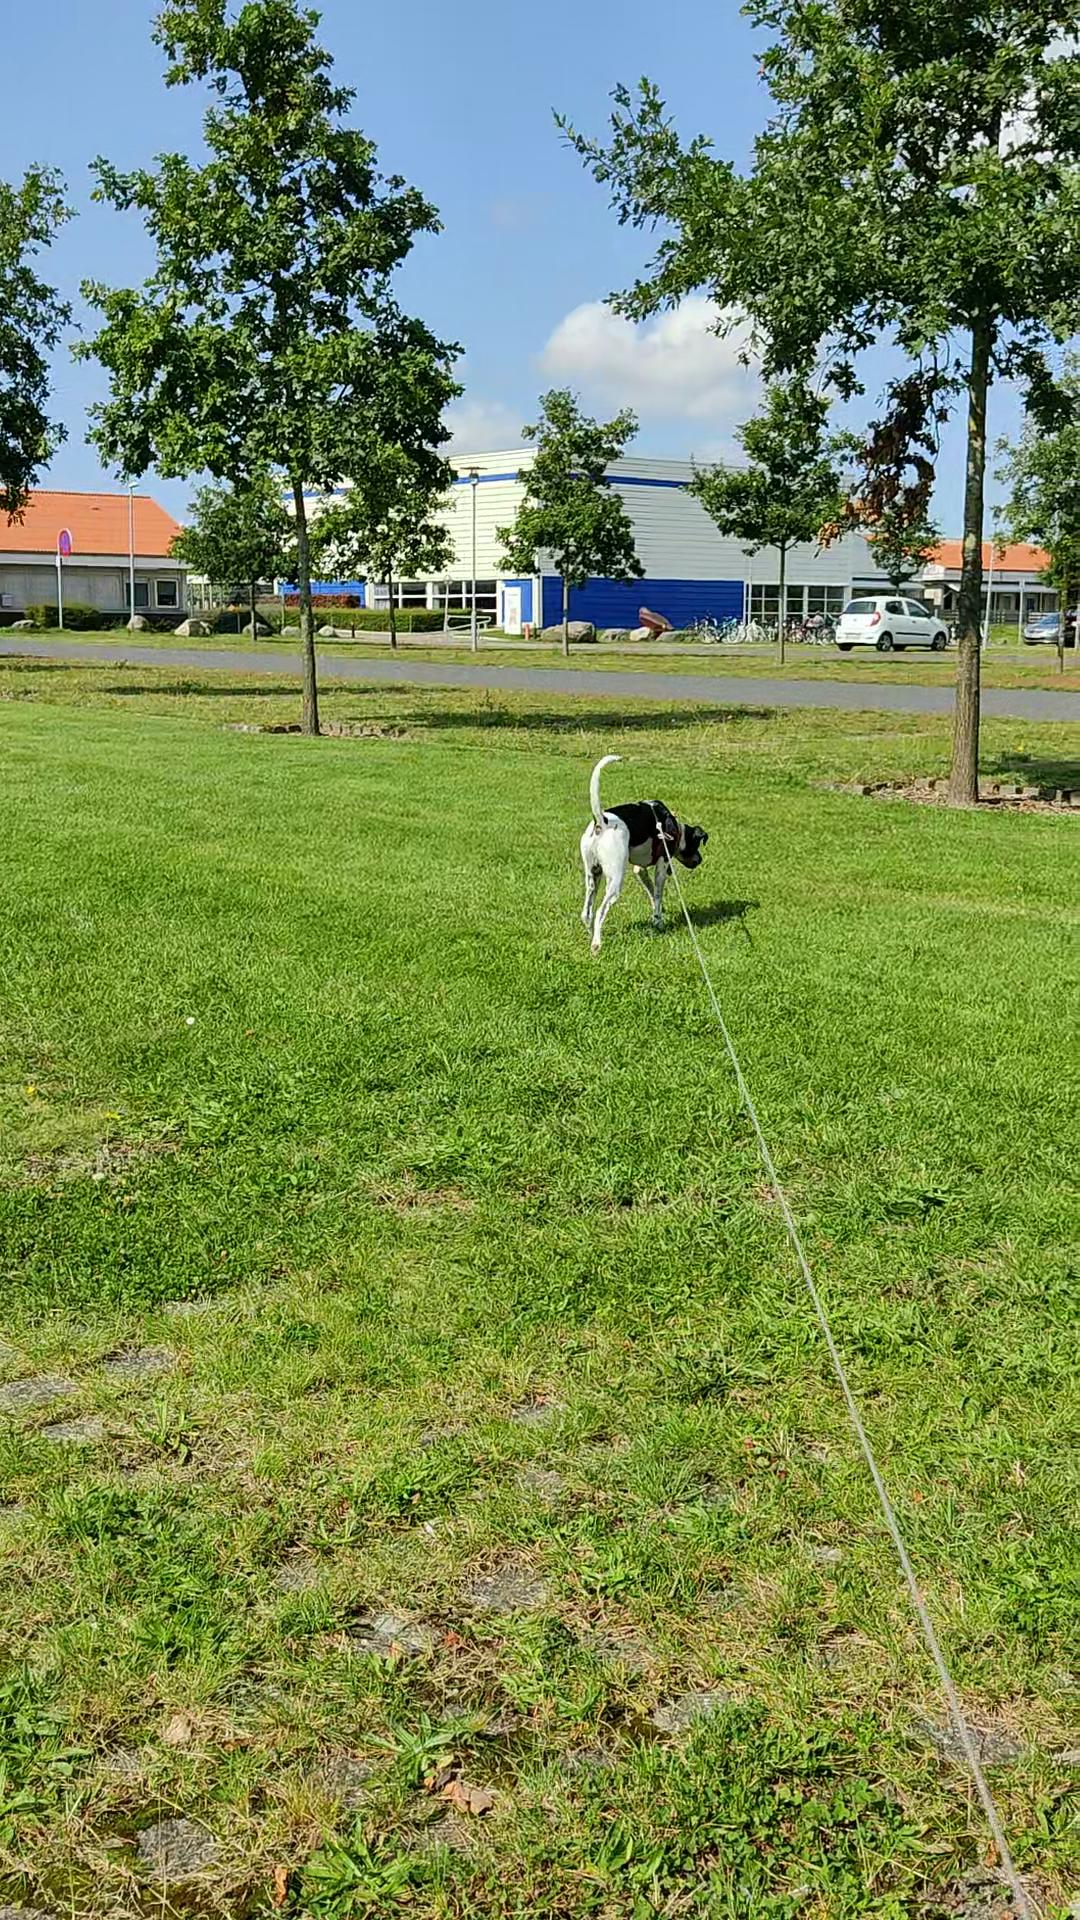Dog: (578, 752, 708, 956)
